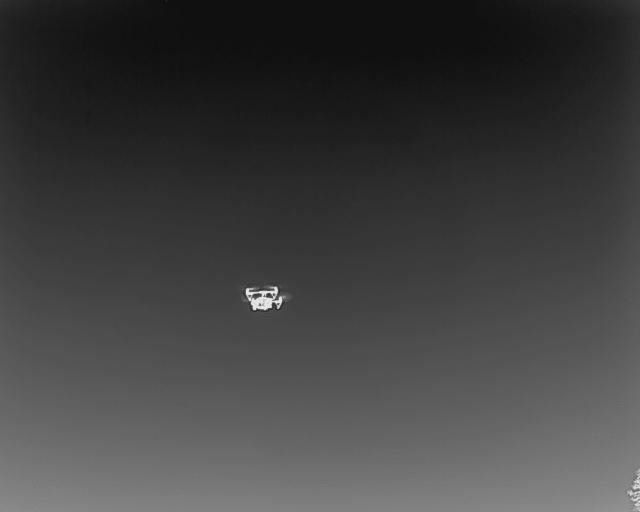drone: (237, 280, 286, 319)
